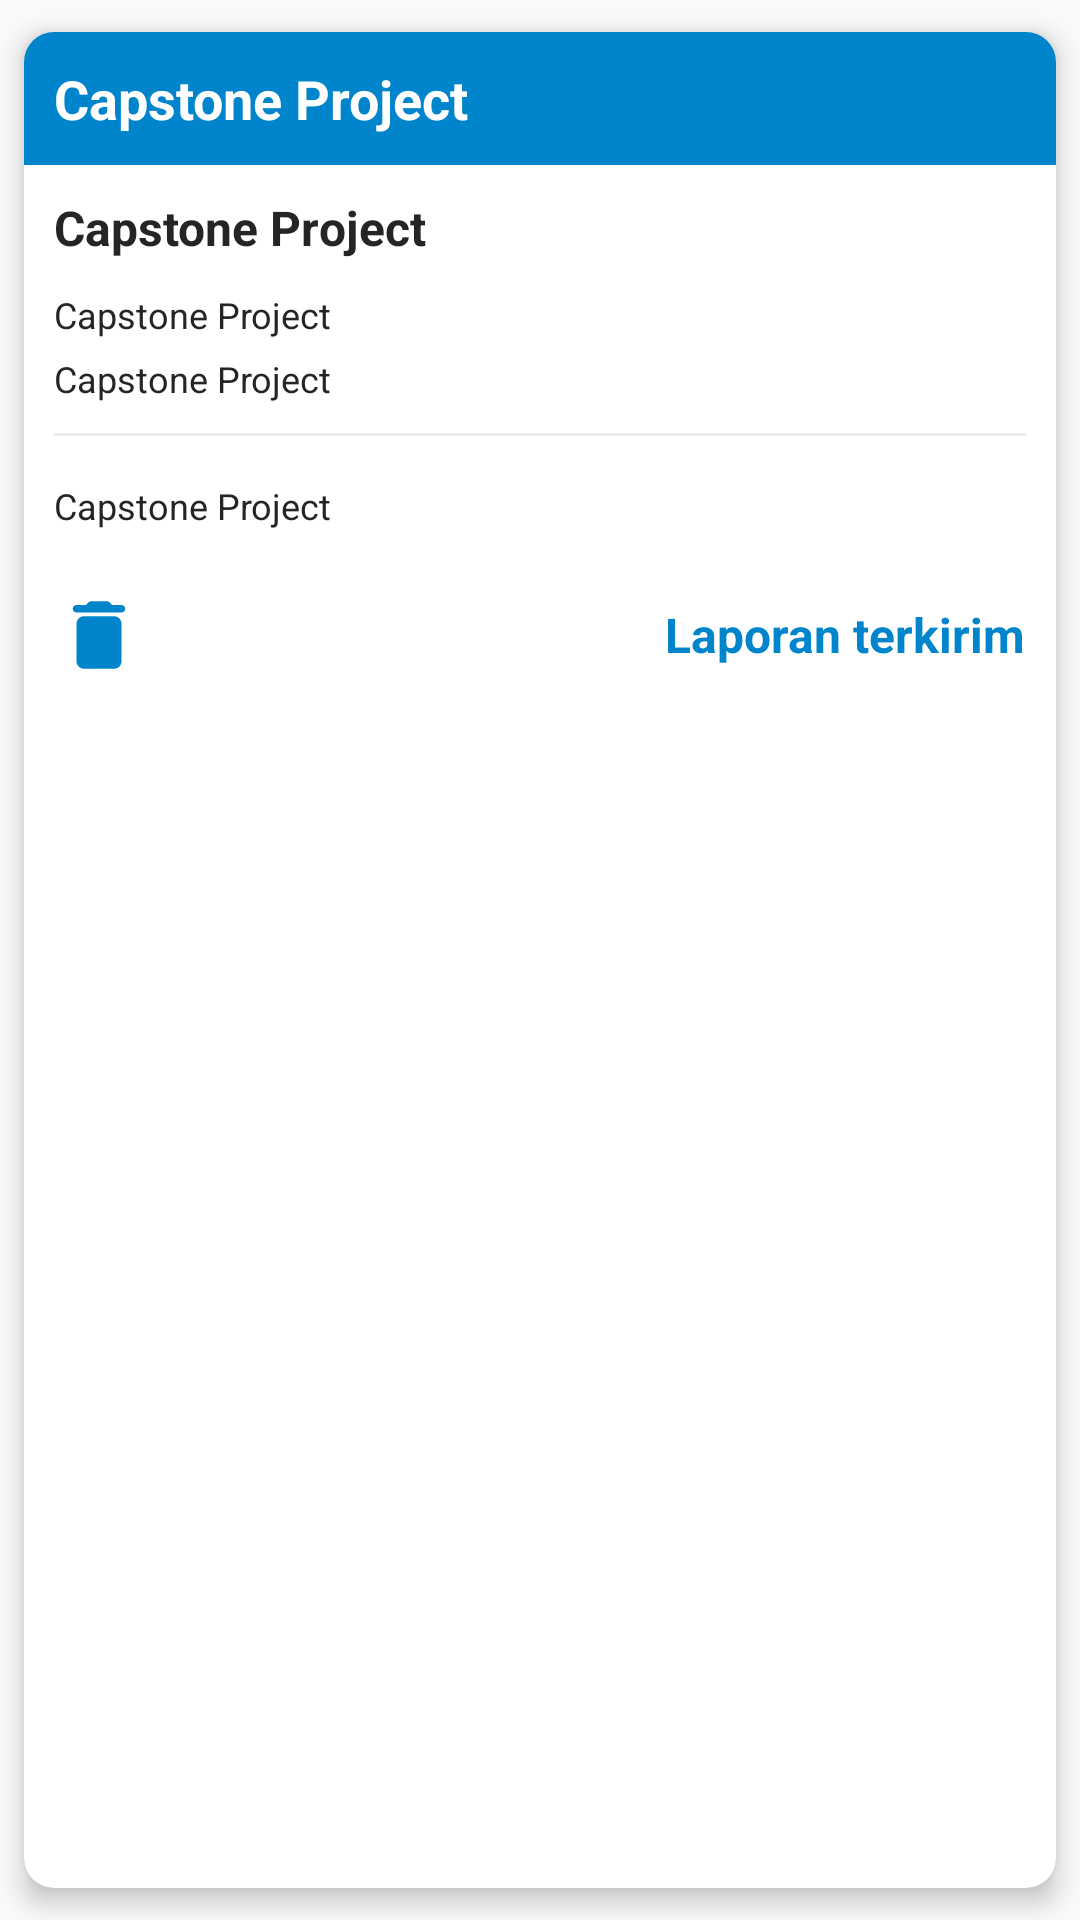

Named icons in this screenshot (1080×1920) and their bounding boxes, (x1, y1, x2, y2):
delete: (72, 601, 126, 669)
